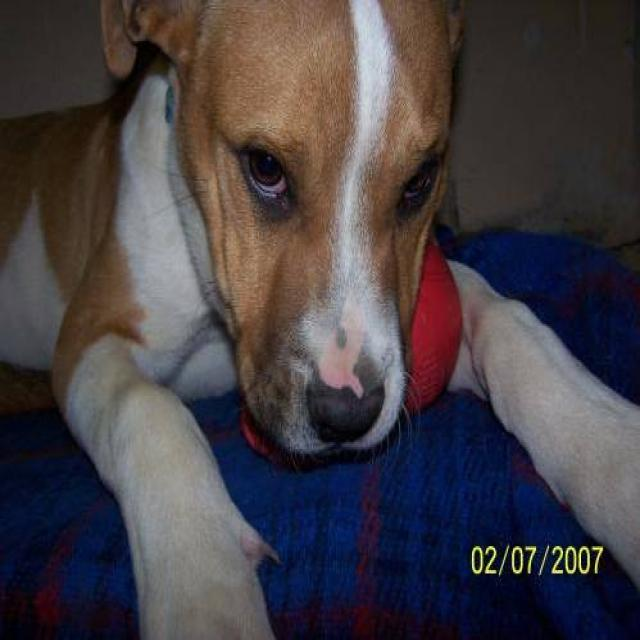dog: (0, 0, 467, 638)
